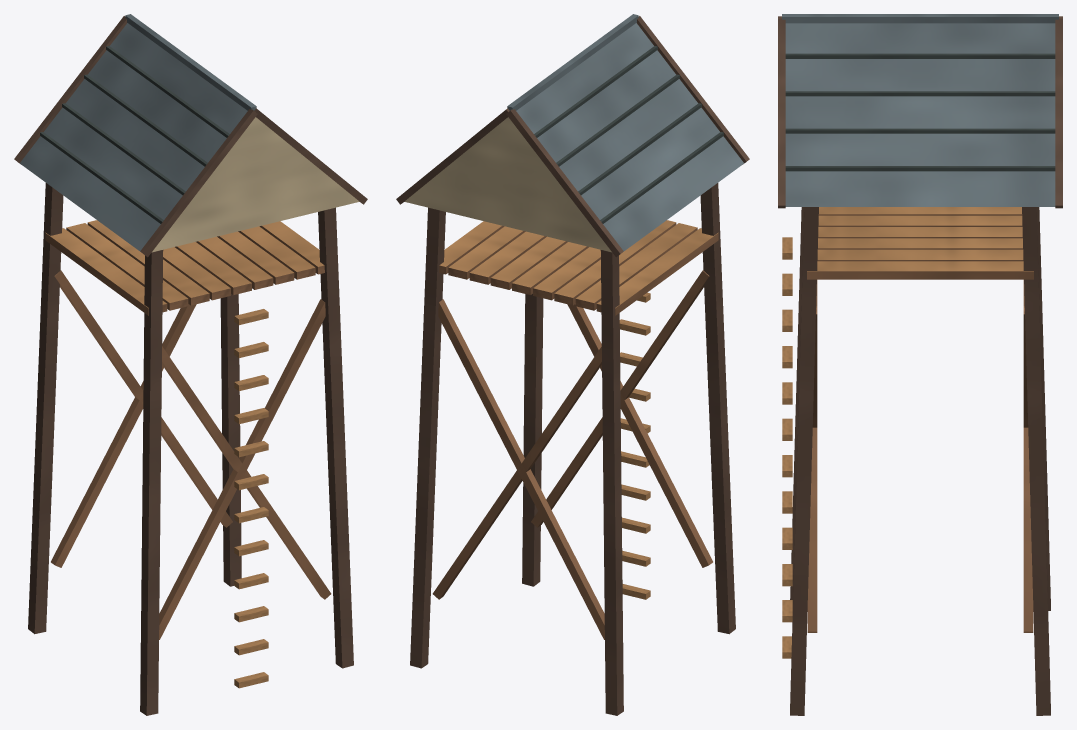
Rendered from tower_watch_wood.fbx.
The picture shows the model from 3 angles, left to right: view 1: azimuth 30°, elevation 25°; view 2: azimuth 150°, elevation 25°; view 3: azimuth 270°, elevation 25°; orthographic projection. The views are drawn at different scales.
Visible parts, largest first — view 1: tower_watch_wood; view 2: tower_watch_wood; view 3: tower_watch_wood.
Boxes of the visible parts, x1,y1,x2,y2 form: tower_watch_wood: (14, 14, 367, 715); tower_watch_wood: (396, 14, 749, 715); tower_watch_wood: (778, 14, 1062, 715).
Size of the model in its own units: 400 by 1000 by 400.
Materials: 1 (1 with a texture image).
